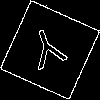Y: (25, 25, 72, 79)
